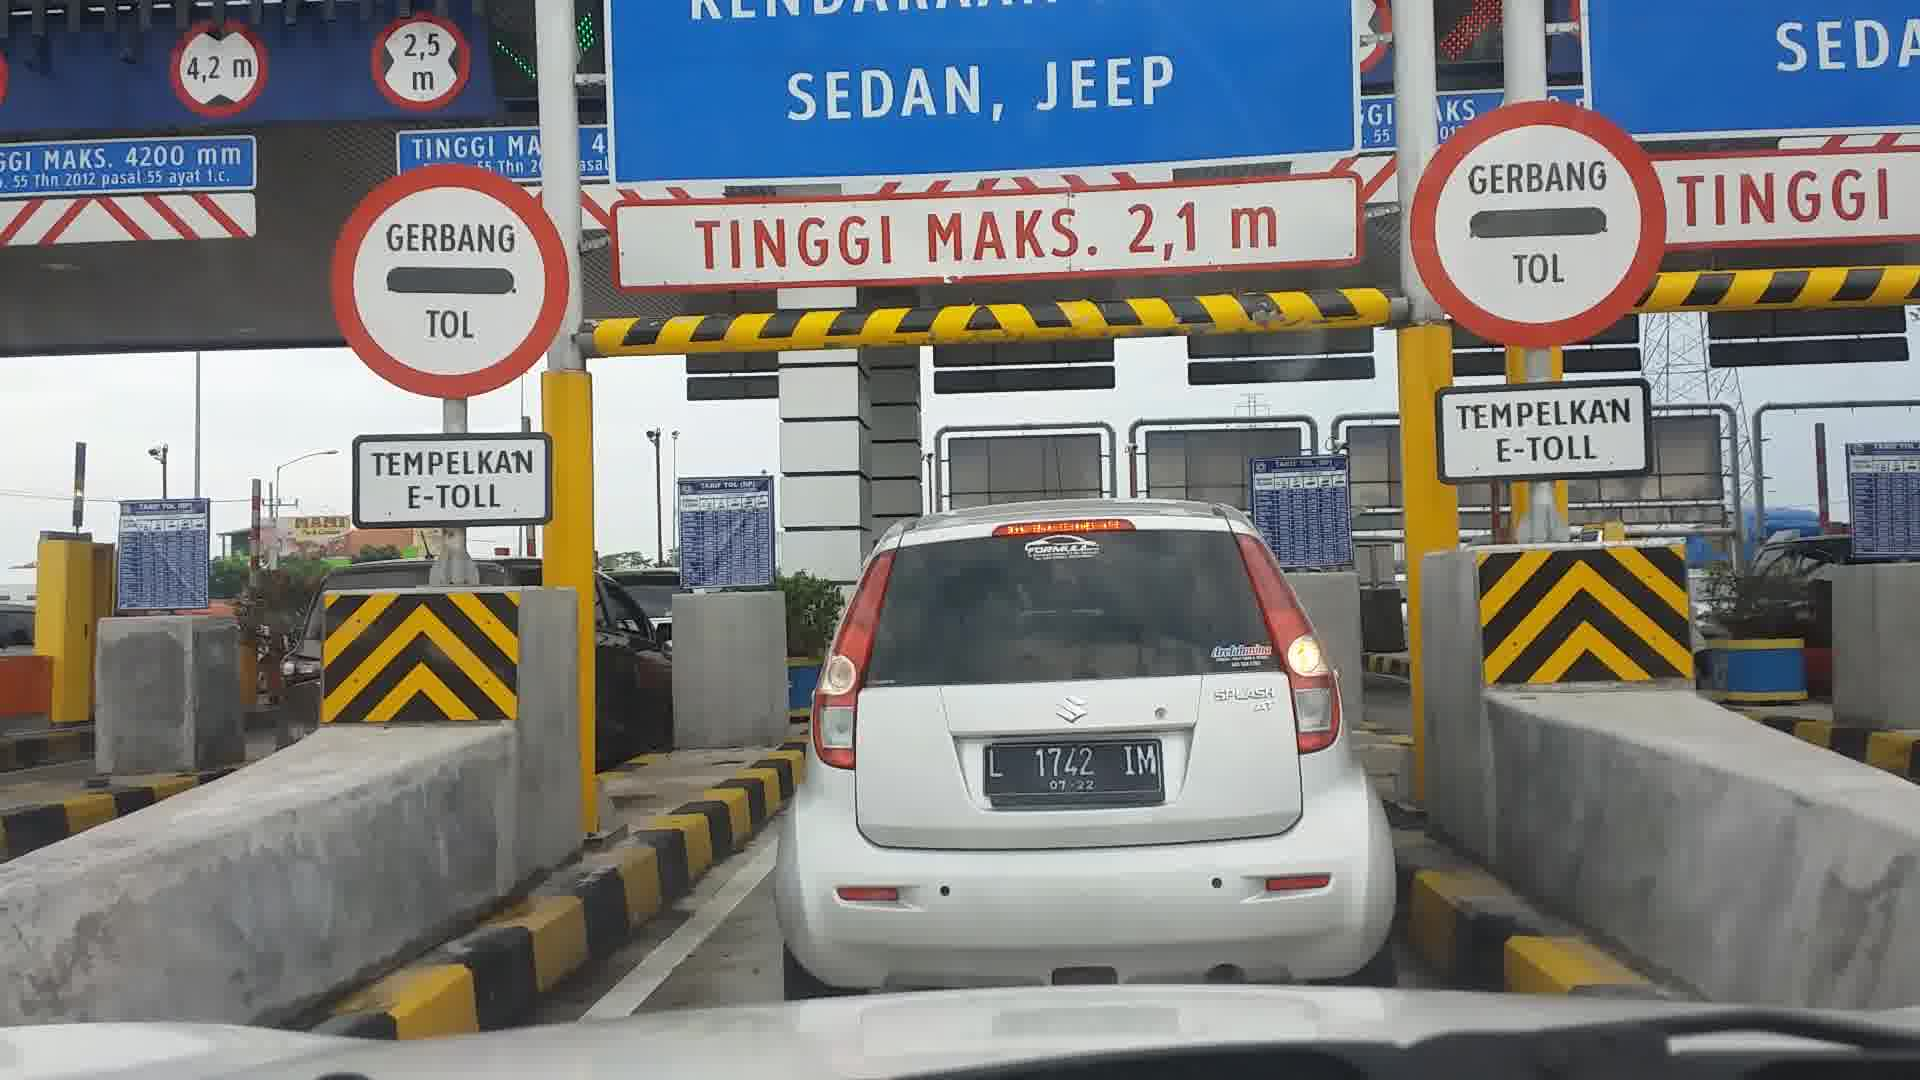plate_positive: (982, 740, 1167, 808)
